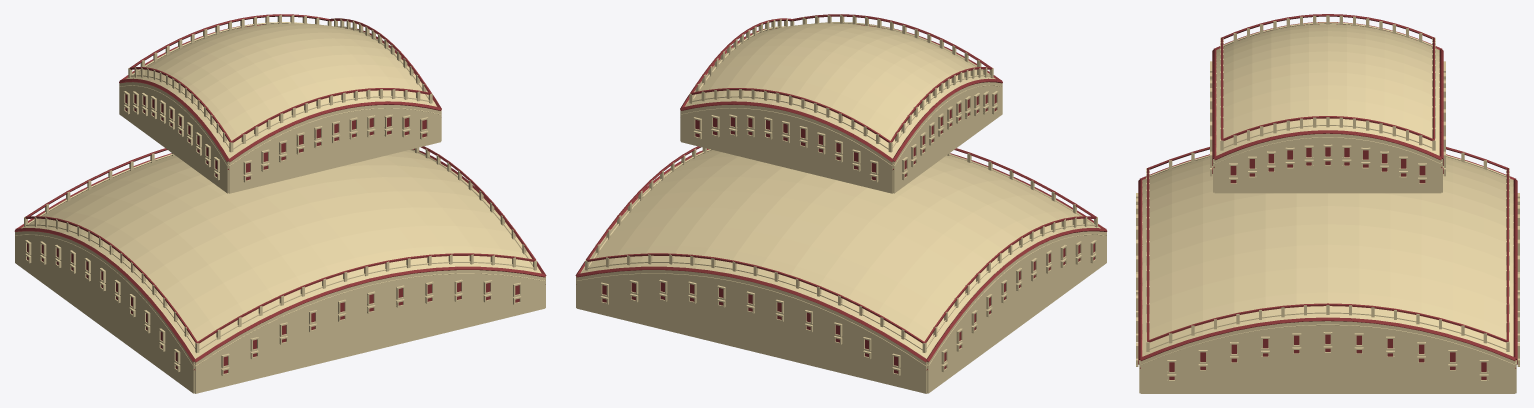
The model's file is KOL_T1_DAKSHINESHWAR__05_Curved_Roofs.fbx.
3 renders of one model, left to right at view 1: azimuth 30°, elevation 25°; view 2: azimuth 150°, elevation 25°; view 3: azimuth 270°, elevation 25°, orthographic. The views are drawn at different scales.
Visible parts, largest first — view 1: KOL_T1_DAKSHINESHWAR__05_Curved_Roofs__KOL_T1_TempleCream, KOL_T1_DAKSHINESHWAR__05_Curved_Roofs__KOL_T1_TempleCream.00 (×2), KOL_T1_DAKSHINESHWAR__05_Curved_Roofs__KOL_T1_TempleRed, KOL_T1_DAKSHINESHWAR__05_Curved_Roofs__KOL_T1_TempleRed.001; view 2: KOL_T1_DAKSHINESHWAR__05_Curved_Roofs__KOL_T1_TempleCream, KOL_T1_DAKSHINESHWAR__05_Curved_Roofs__KOL_T1_TempleCream.00 (×2), KOL_T1_DAKSHINESHWAR__05_Curved_Roofs__KOL_T1_TempleRed, KOL_T1_DAKSHINESHWAR__05_Curved_Roofs__KOL_T1_TempleRed.001; view 3: KOL_T1_DAKSHINESHWAR__05_Curved_Roofs__KOL_T1_TempleCream, KOL_T1_DAKSHINESHWAR__05_Curved_Roofs__KOL_T1_TempleCream.00 (×2), KOL_T1_DAKSHINESHWAR__05_Curved_Roofs__KOL_T1_TempleRed, KOL_T1_DAKSHINESHWAR__05_Curved_Roofs__KOL_T1_TempleRed.001.
Part boxes in pixels (x1,y1,x2,y2): KOL_T1_DAKSHINESHWAR__05_Curved_Roofs__KOL_T1_TempleCream: (15,150,545,393); KOL_T1_DAKSHINESHWAR__05_Curved_Roofs__KOL_T1_TempleCream.00 (×2): (24,14,536,352); KOL_T1_DAKSHINESHWAR__05_Curved_Roofs__KOL_T1_TempleRed: (14,24,546,373); KOL_T1_DAKSHINESHWAR__05_Curved_Roofs__KOL_T1_TempleRed.001: (129,14,441,180); KOL_T1_DAKSHINESHWAR__05_Curved_Roofs__KOL_T1_TempleCream: (576,150,1106,393); KOL_T1_DAKSHINESHWAR__05_Curved_Roofs__KOL_T1_TempleCream.00 (×2): (585,14,1097,352); KOL_T1_DAKSHINESHWAR__05_Curved_Roofs__KOL_T1_TempleRed: (575,24,1107,373); KOL_T1_DAKSHINESHWAR__05_Curved_Roofs__KOL_T1_TempleRed.001: (680,14,992,142); KOL_T1_DAKSHINESHWAR__05_Curved_Roofs__KOL_T1_TempleCream: (1136,157,1519,393); KOL_T1_DAKSHINESHWAR__05_Curved_Roofs__KOL_T1_TempleCream.00 (×2): (1146,15,1509,381); KOL_T1_DAKSHINESHWAR__05_Curved_Roofs__KOL_T1_TempleRed: (1138,22,1517,379); KOL_T1_DAKSHINESHWAR__05_Curved_Roofs__KOL_T1_TempleRed.001: (1213,14,1442,183).
Bounding box in the file's own units: 87.9 × 56.5 × 77.9.
